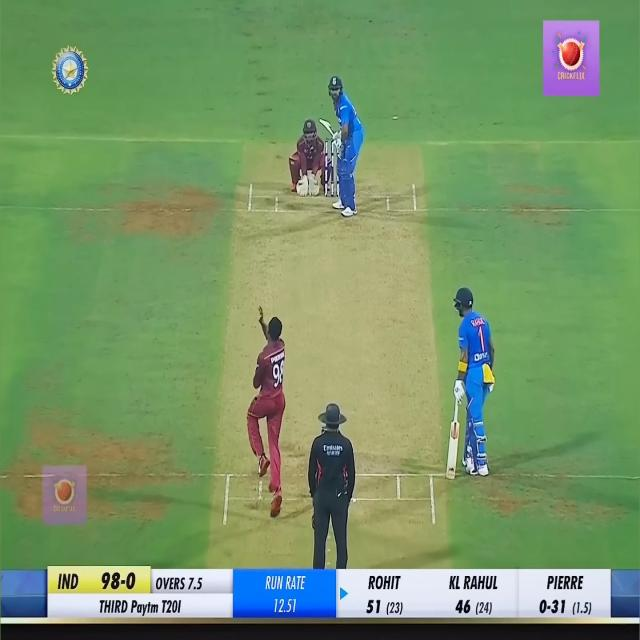fully_visible: (130, 596, 161, 619)
